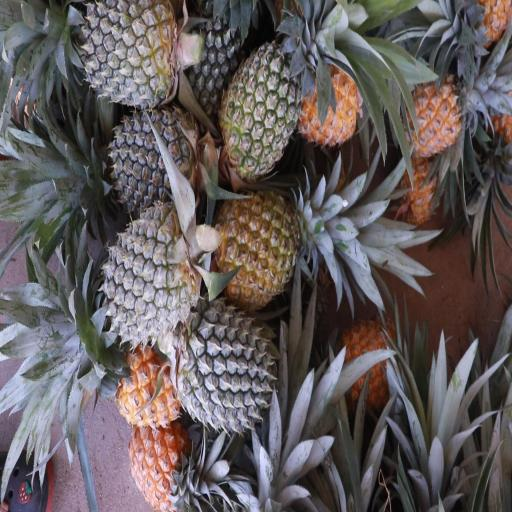------------------------------: (222, 46, 309, 179), (214, 188, 306, 301)
Pineapple - v8 v1: (108, 334, 181, 425), (302, 61, 367, 146), (341, 324, 396, 422), (129, 424, 193, 506), (407, 74, 468, 159)
